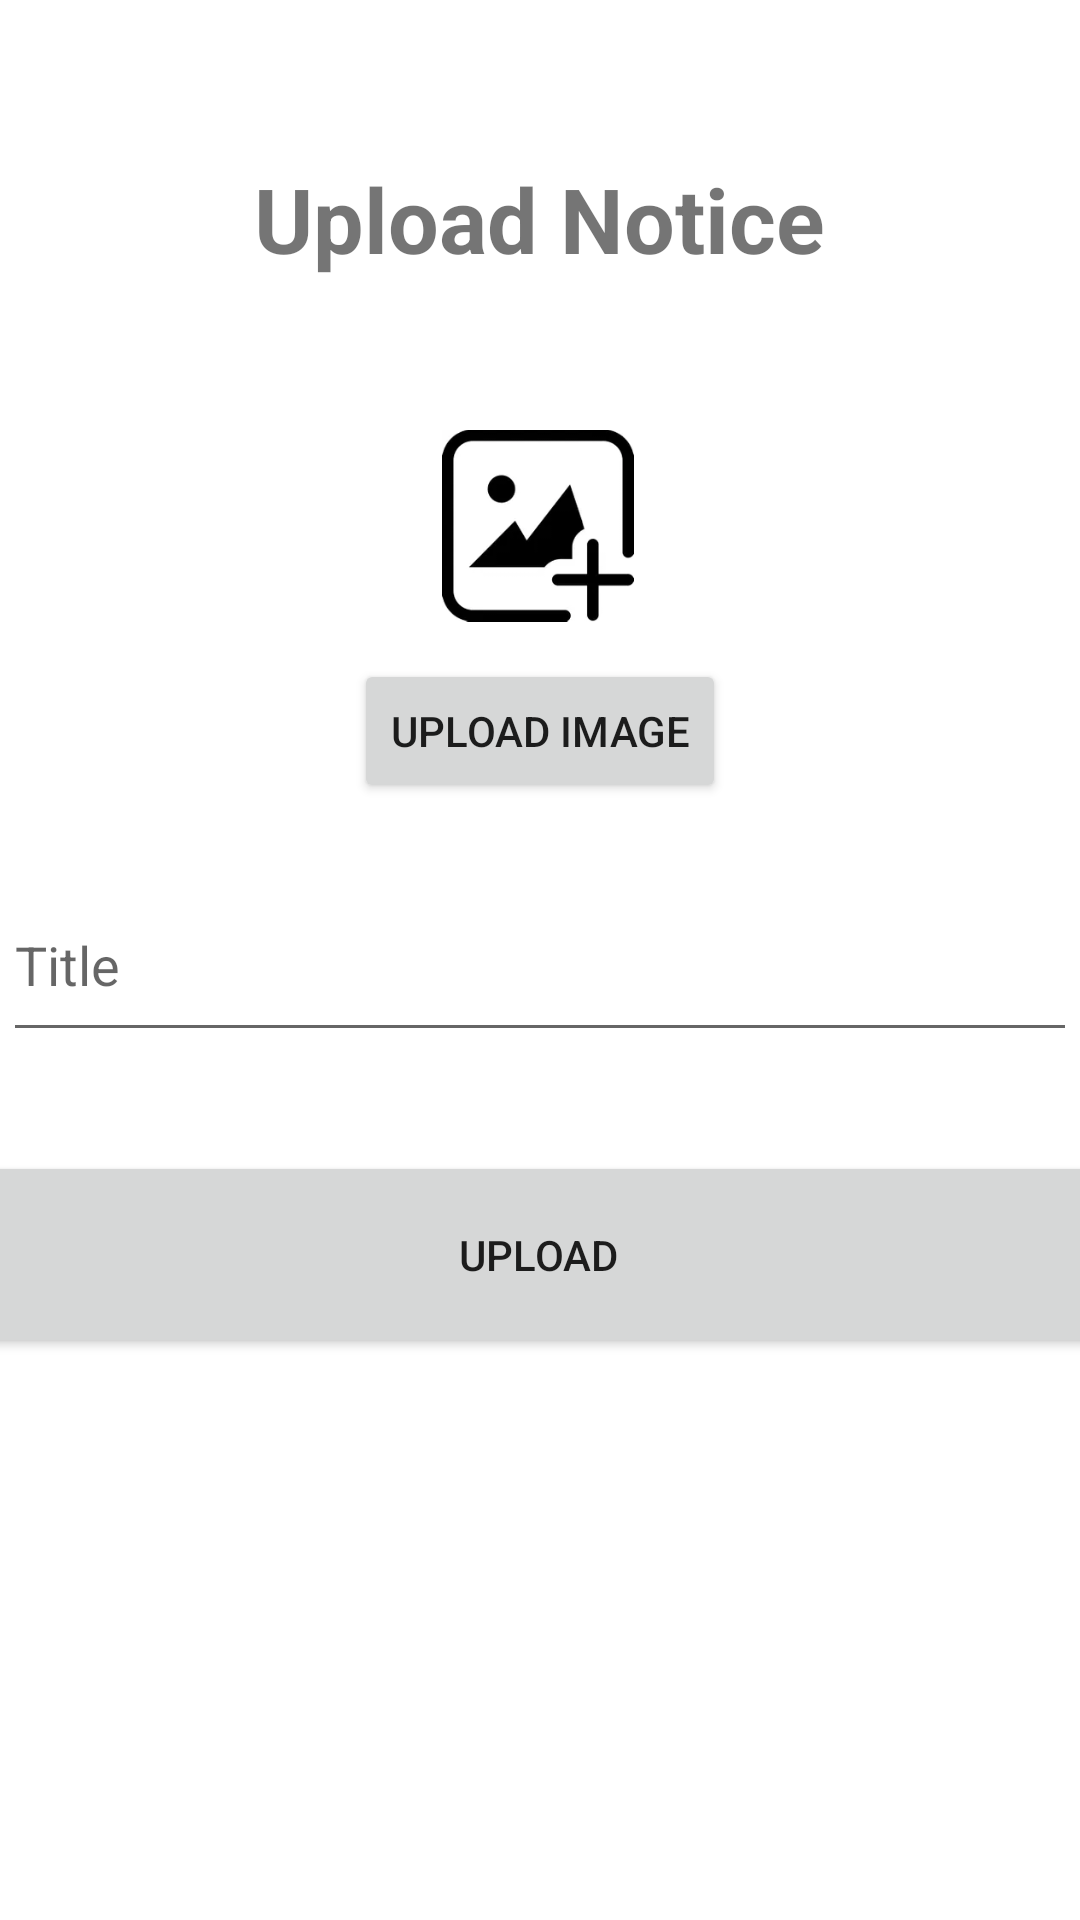

Where icons sit on this 1080px×1920px app screen, as (x1, y1, x2, y2):
uploadpic: (442, 430, 634, 622)
